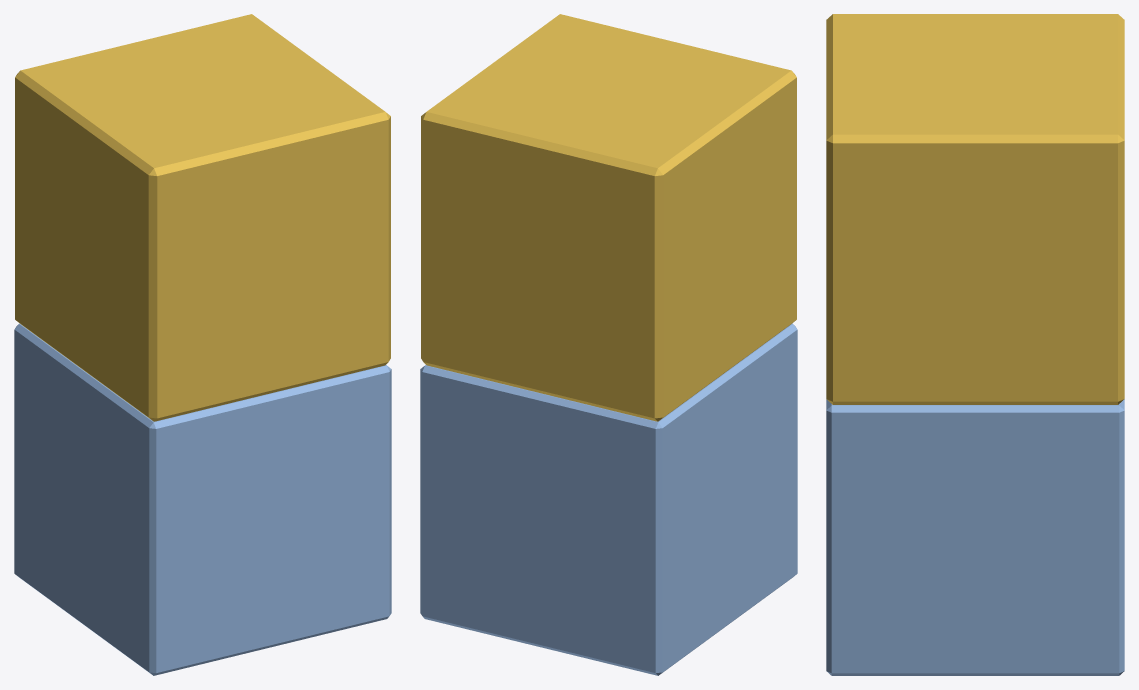
File: gltf_test.glb
The picture shows the model from 3 angles, left to right: view 1: azimuth 30°, elevation 25°; view 2: azimuth 150°, elevation 25°; view 3: azimuth 270°, elevation 25°; orthographic projection. The views are drawn at different scales.
Parts seen in each view (by area): view 1: Cube.001, Cube; view 2: Cube.001, Cube; view 3: Cube.001, Cube.
Boxes of the visible parts, box(x1,y1,x2,y2) form: Cube.001: box(15, 14, 390, 421); Cube: box(14, 323, 391, 675); Cube.001: box(421, 14, 796, 421); Cube: box(420, 323, 797, 675); Cube.001: box(826, 14, 1124, 404); Cube: box(826, 399, 1124, 675).
Bounding box in the file's own units: 2 × 4 × 2.
